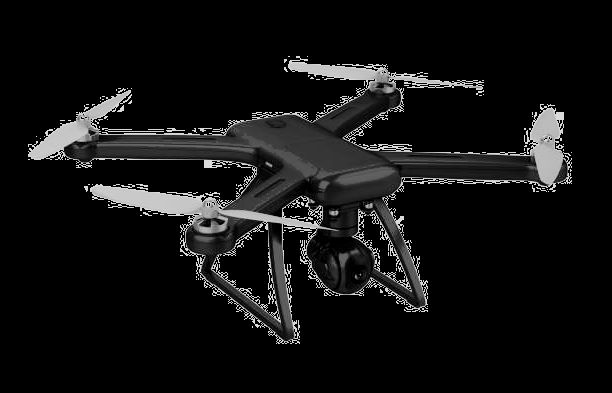Drone: (23, 55, 567, 347)
